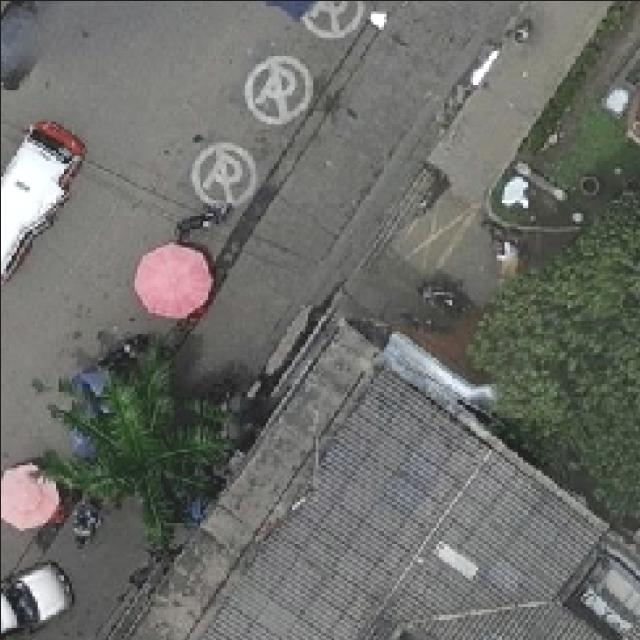vendedor_ambulante: (132, 239, 212, 324), (0, 459, 61, 535)
